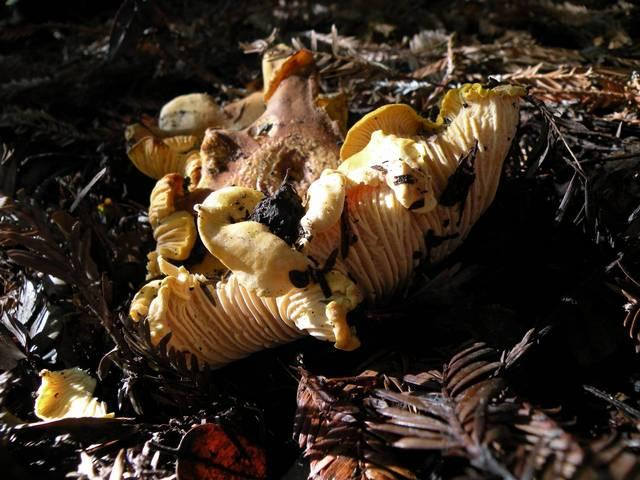edible_mushroom: (124, 45, 525, 371)
